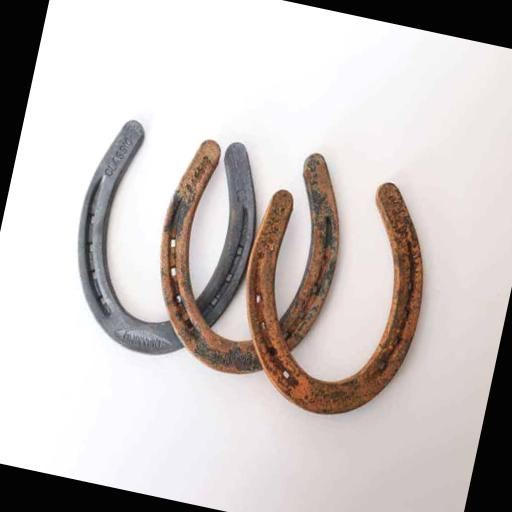segmentation: (159, 139, 260, 373), (246, 153, 338, 408), (327, 182, 421, 408)
